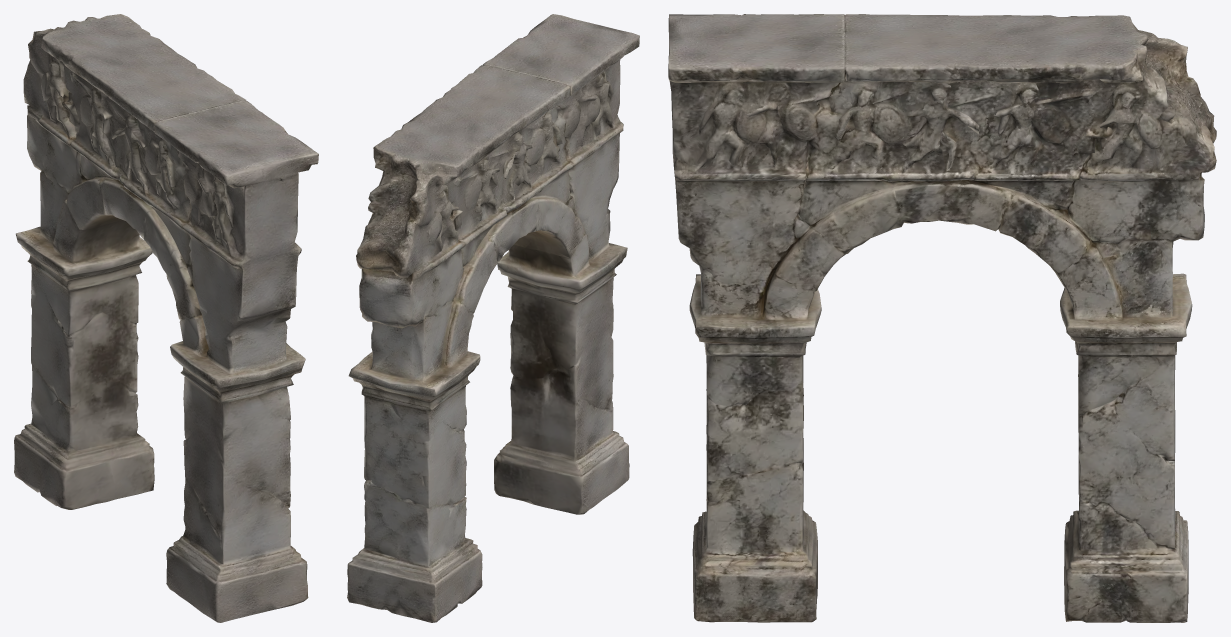
The model's file is arch.glb.
3 renders of one model, left to right at view 1: azimuth 30°, elevation 25°; view 2: azimuth 150°, elevation 25°; view 3: azimuth 270°, elevation 25°, orthographic. The views are drawn at different scales.
Parts seen in each view (by area): view 1: tripo_node_90dcc3a0-0204-4b7a-83af-01f2acc1447f; view 2: tripo_node_90dcc3a0-0204-4b7a-83af-01f2acc1447f; view 3: tripo_node_90dcc3a0-0204-4b7a-83af-01f2acc1447f.
Part boxes in pixels (x1,y1,x2,y2): tripo_node_90dcc3a0-0204-4b7a-83af-01f2acc1447f: (14, 14, 318, 622); tripo_node_90dcc3a0-0204-4b7a-83af-01f2acc1447f: (347, 14, 639, 622); tripo_node_90dcc3a0-0204-4b7a-83af-01f2acc1447f: (668, 14, 1216, 622).
Size of the model in its own units: 0.2135 by 1 by 0.8911.
1 material, 1 textured.
